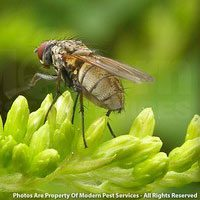phorid fly: (14, 33, 153, 151)
